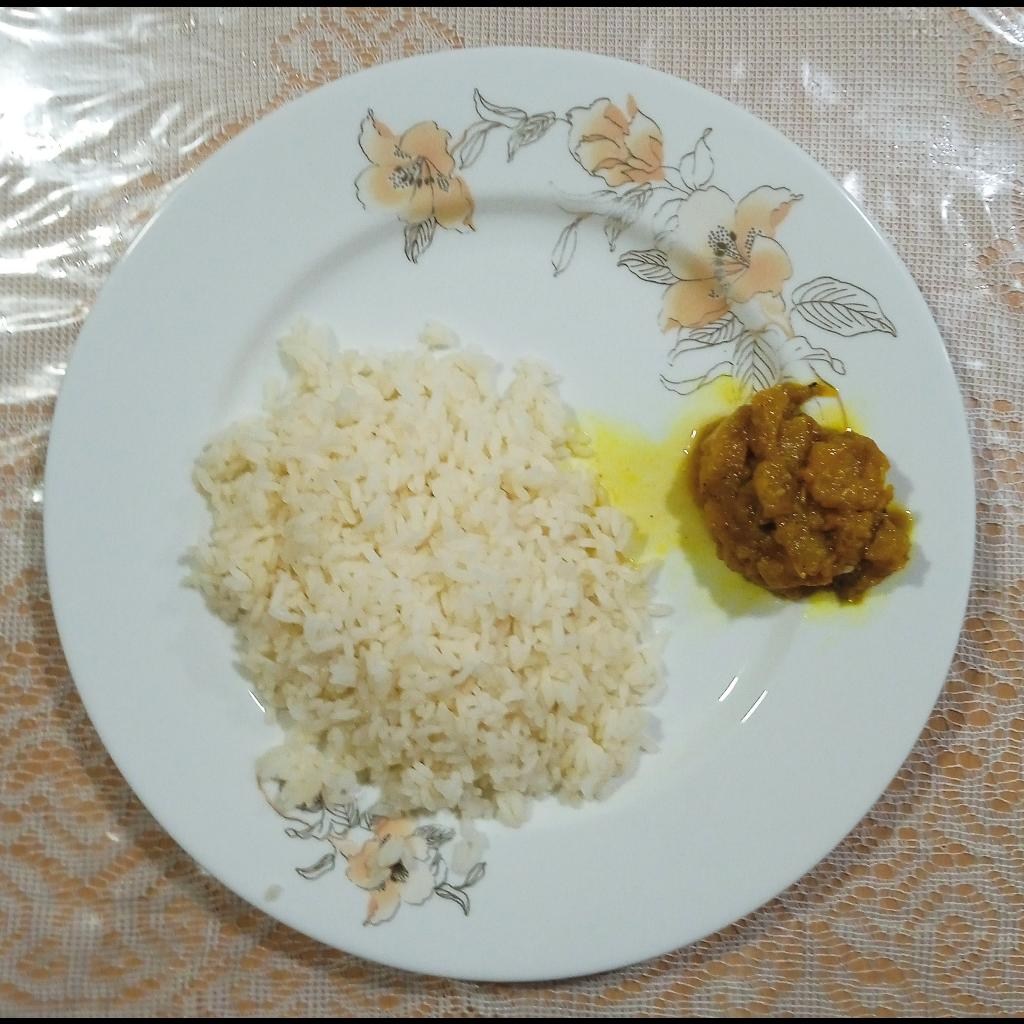kumra-vaji: (690, 379, 917, 603)
rice: (176, 314, 681, 872)
